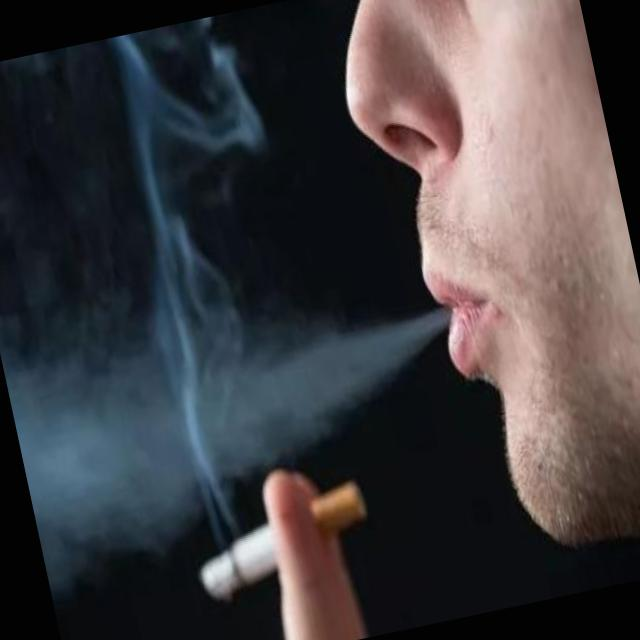cigarette: (179, 468, 384, 600)
